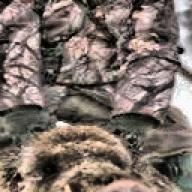boar: (0, 121, 192, 192)
